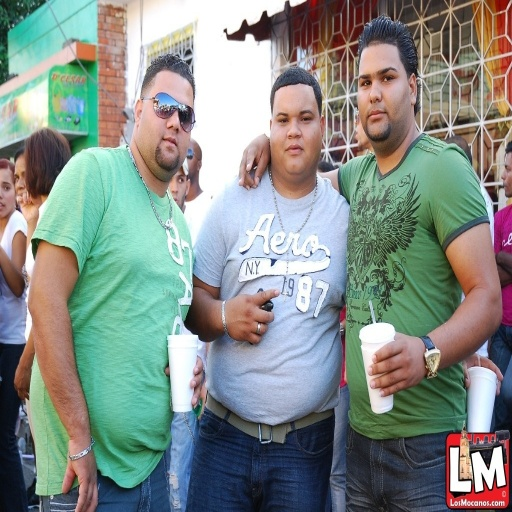hand: (365, 330, 424, 396), (59, 432, 99, 510), (222, 294, 279, 346), (164, 353, 202, 410), (236, 131, 272, 190), (463, 350, 504, 397), (15, 190, 41, 226), (10, 357, 32, 399), (194, 380, 207, 422)
